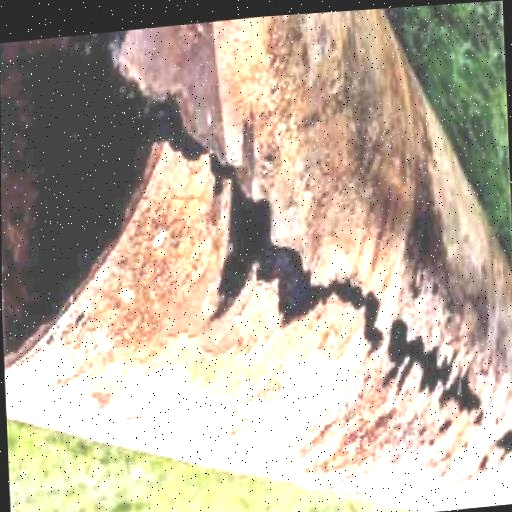corrosion: (95, 218, 190, 389), (339, 346, 512, 415), (291, 409, 397, 493)
crack: (161, 0, 176, 261)
